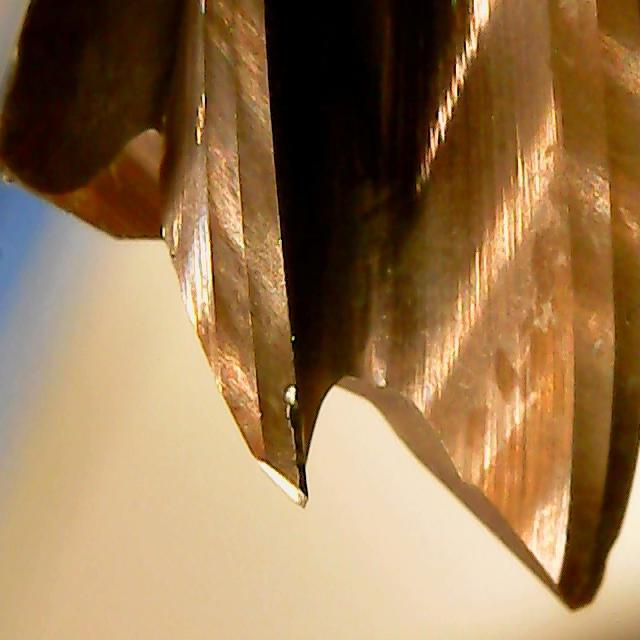Tool-wear-class-1: (215, 215, 321, 509)
